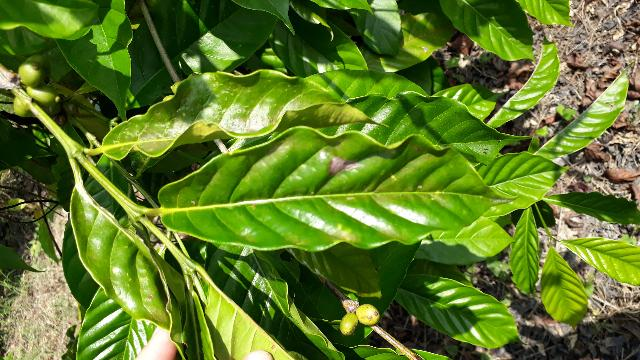rust_level_1: (160, 126, 519, 249)
